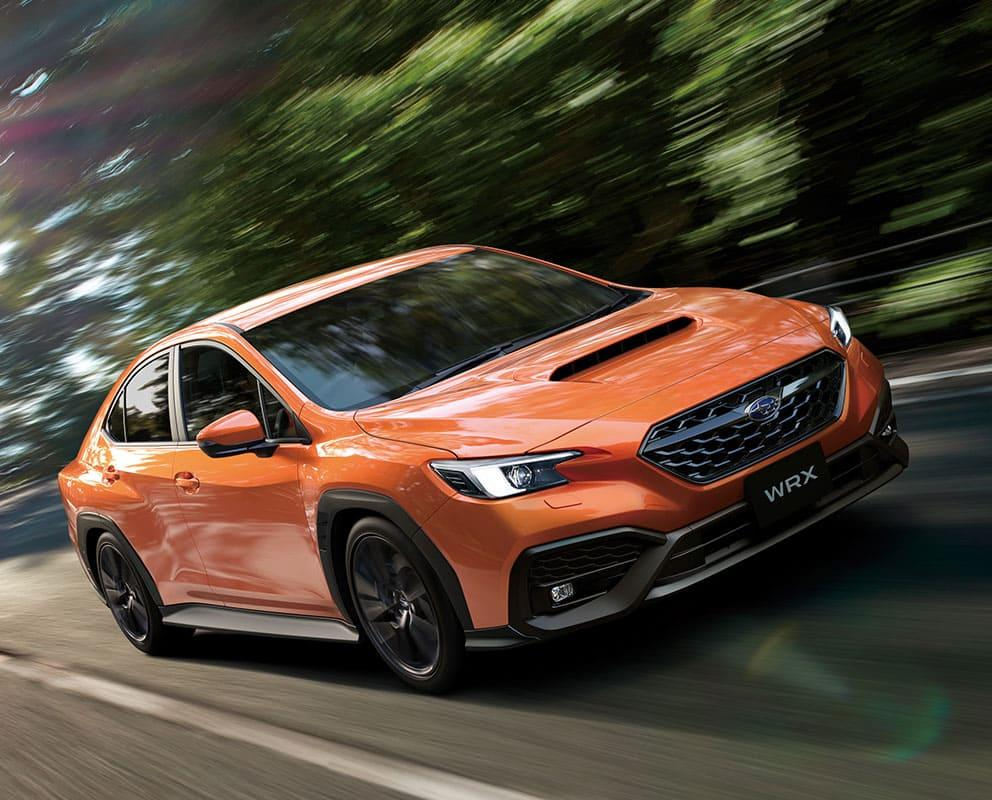subaru: (732, 380, 786, 428)
